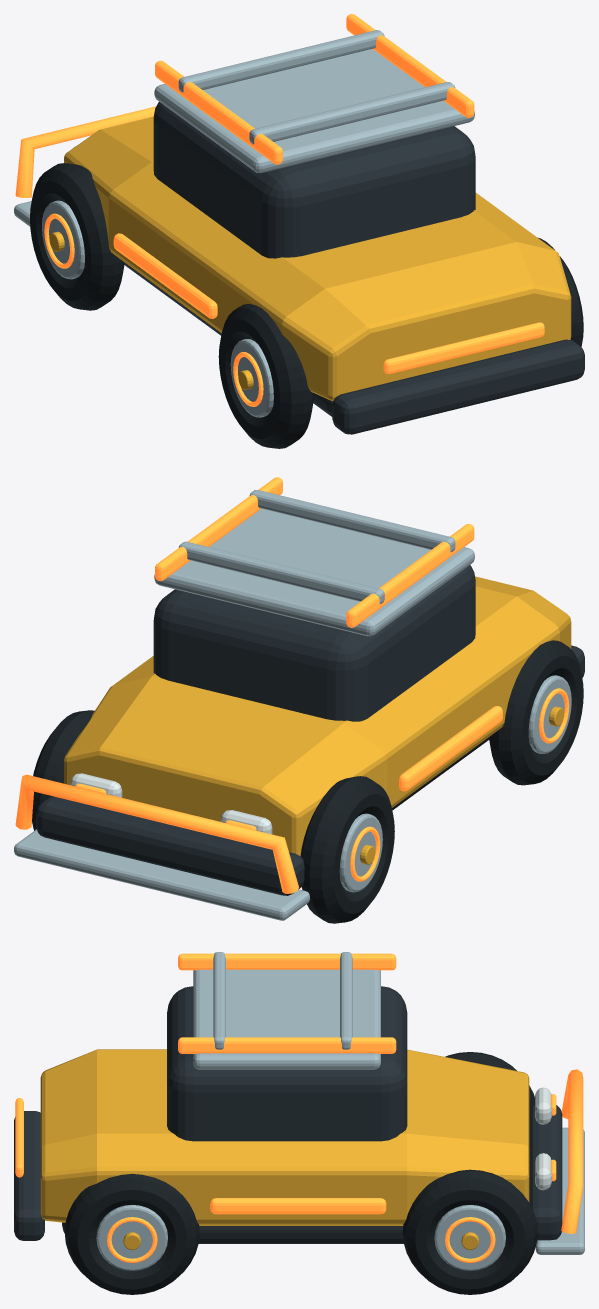
The model's file is bulwark.glb.
3 views of the same model, one above another, from view 1: azimuth 30°, elevation 25°; view 2: azimuth 150°, elevation 25°; view 3: azimuth 270°, elevation 25° (orthographic). The views are drawn at different scales.
Parts seen in each view (by area): view 1: Bulwark • faceted body shell, Bulwark • cockpit shell, Bulwark • roof cargo rack deck, Bulwark • rear diffuser, Bulwark • tire -1,1, Bulwark • tire -1,-1, Bulwark • rack crossbar 0.42, Bulwark • rack crossbar -0.48, Bulwark • tail signal bar, Bulwark • roof rack rail -1, Bulwark • frontal bull bar, Bulwark • roof rack rail 1 (+7 smaller); view 2: Bulwark • faceted body shell, Bulwark • cockpit shell, Bulwark • roof cargo rack deck, Bulwark • front impact bumper, Bulwark • tire -1,1, Bulwark • front splitter, Bulwark • tire -1,-1, Bulwark • frontal bull bar, Bulwark • rack crossbar 0.42, Bulwark • rack crossbar -0.48, Bulwark • roof rack rail -1, Bulwark • roof rack rail 1 (+8 smaller); view 3: Bulwark • faceted body shell, Bulwark • cockpit shell, Bulwark • roof cargo rack deck, Bulwark • tire 1,1, Bulwark • tire 1,-1, Bulwark • lower chassis, Bulwark • roof rack rail 1, Bulwark • front impact bumper, Bulwark • roof rack rail -1, Bulwark • rear diffuser, Bulwark • hub alloy 1,1, Bulwark • hub alloy 1,-1 (+11 smaller).
Boxes of the visible parts, x1,y1,x2,y2 form: Bulwark • faceted body shell: (64,116,571,401); Bulwark • cockpit shell: (153,102,475,258); Bulwark • roof cargo rack deck: (154,49,474,173); Bulwark • rear diffuser: (332,339,584,434); Bulwark • tire -1,1: (30,163,124,310); Bulwark • tire -1,-1: (218,304,313,448); Bulwark • rack crossbar 0.42: (178,30,384,92); Bulwark • rack crossbar -0.48: (249,82,455,144); Bulwark • tail signal bar: (383,322,544,374); Bulwark • roof rack rail -1: (155,60,282,164); Bulwark • frontal bull bar: (15,106,155,198); Bulwark • roof rack rail 1: (346,14,474,117); Bulwark • faceted body shell: (64,576,571,856); Bulwark • cockpit shell: (153,565,475,721); Bulwark • roof cargo rack deck: (154,508,474,636); Bulwark • front impact bumper: (36,796,304,895); Bulwark • tire -1,1: (300,776,394,923); Bulwark • front splitter: (14,829,309,920); Bulwark • tire -1,-1: (489,640,583,785); Bulwark • frontal bull bar: (15,774,298,893); Bulwark • rack crossbar 0.42: (178,541,384,604); Bulwark • rack crossbar -0.48: (249,490,455,552); Bulwark • roof rack rail -1: (346,524,474,627); Bulwark • roof rack rail 1: (155,477,282,580); Bulwark • faceted body shell: (40,1049,529,1225); Bulwark • cockpit shell: (167,986,407,1141); Bulwark • roof cargo rack deck: (193,969,380,1069); Bulwark • tire 1,1: (402,1169,537,1294); Bulwark • tire 1,-1: (64,1173,199,1294); Bulwark • lower chassis: (62,1222,403,1243); Bulwark • roof rack rail 1: (178,1037,396,1053); Bulwark • front impact bumper: (529,1104,562,1240); Bulwark • roof rack rail -1: (178,953,396,970); Bulwark • rear diffuser: (14,1111,44,1240); Bulwark • hub alloy 1,1: (434,1205,505,1270); Bulwark • hub alloy 1,-1: (96,1205,167,1270).
Size of the model in its own units: 2.33 by 1.88 by 4.05.
